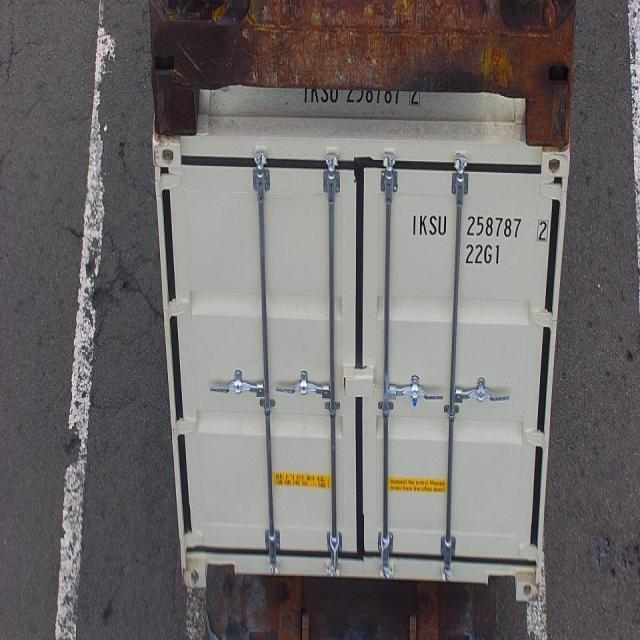ISO: (464, 242, 502, 266)
container_number: (408, 212, 552, 245)
